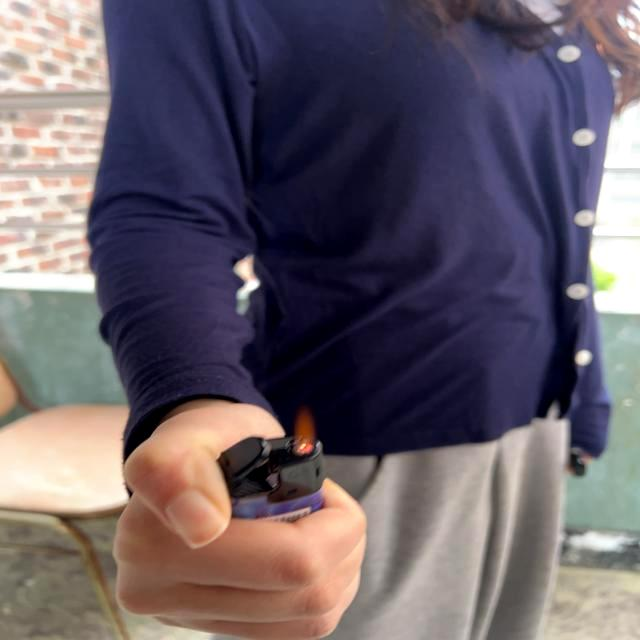fire: (293, 406, 317, 456)
